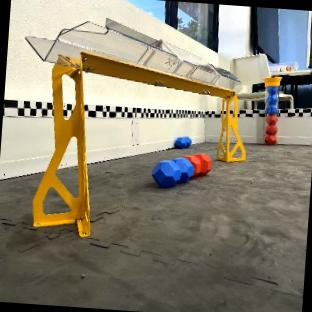Goal: (26, 20, 244, 235)
V5_BLUE: (153, 157, 193, 187), (175, 136, 190, 148)
V5_RED: (183, 153, 210, 176), (265, 114, 277, 143)
